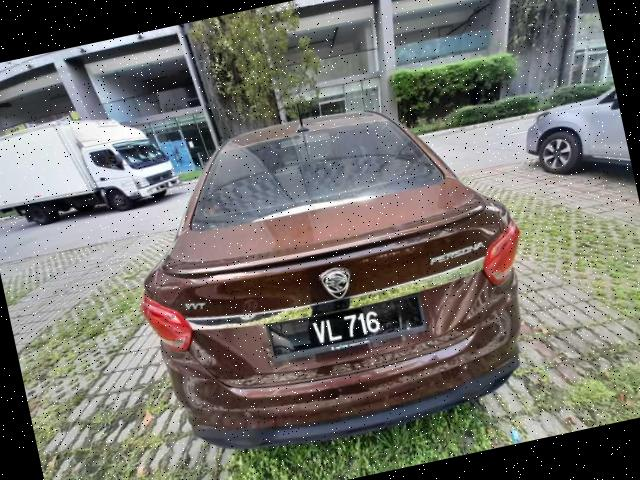License_Plate: (263, 292, 430, 367)
car: (108, 79, 554, 475)
